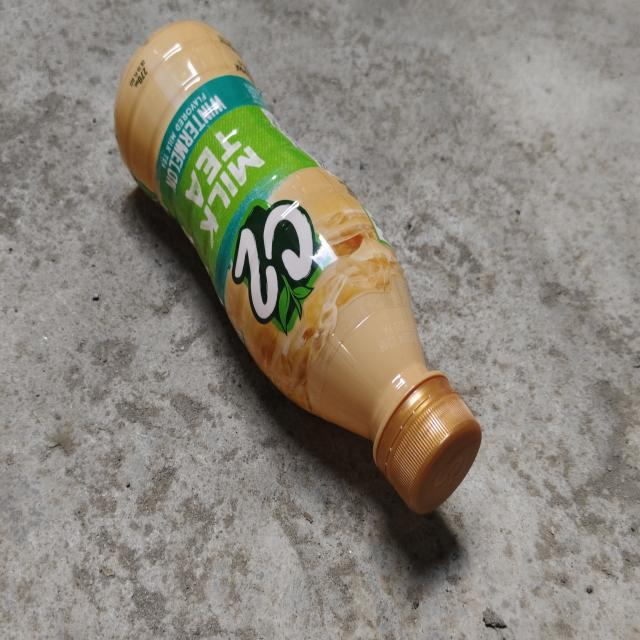Bottle: (113, 19, 484, 520)
